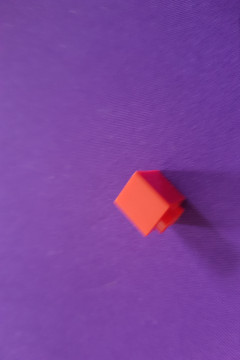1x2 red: (113, 169, 188, 237)
